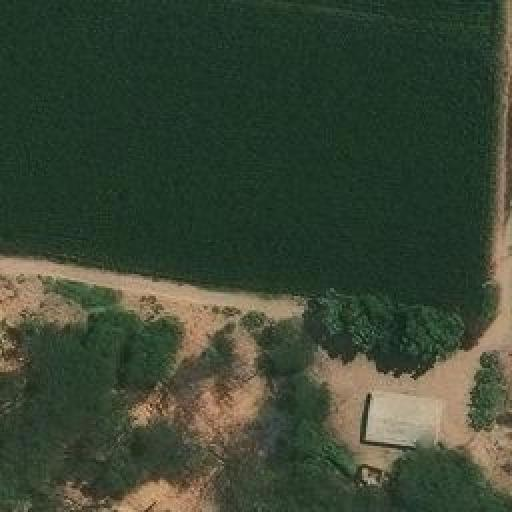manzanas: (361, 388, 445, 456)
